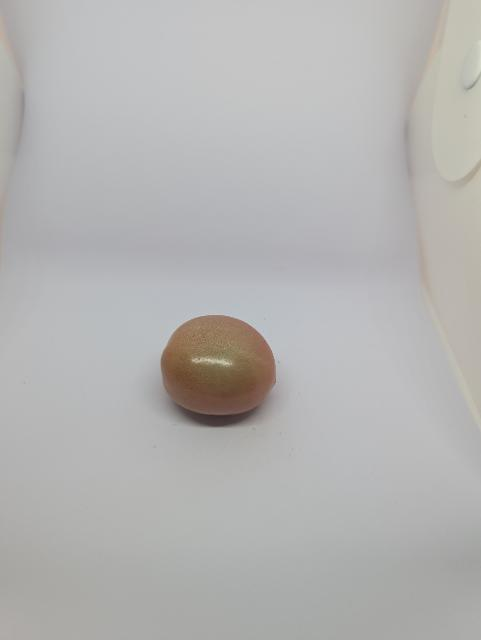turning: (157, 302, 280, 423)
